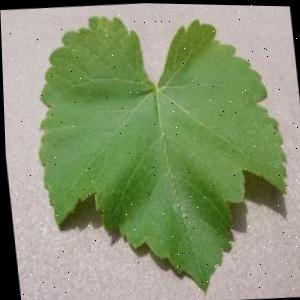Folha: (22, 1, 299, 300)
